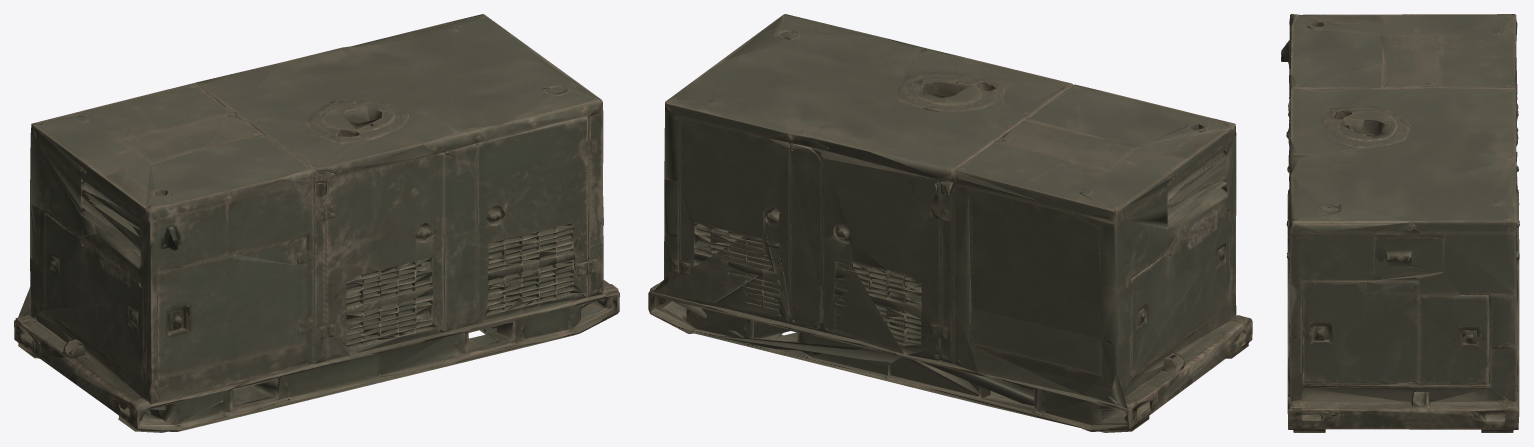
The model's file is field_gen.glb.
3 views of the same model, side by side, from view 1: azimuth 30°, elevation 25°; view 2: azimuth 150°, elevation 25°; view 3: azimuth 270°, elevation 25° (orthographic). The views are drawn at different scales.
Visible parts, largest first — view 1: field_gen; view 2: field_gen; view 3: field_gen.
Part boxes in pixels (bbox=[...]): field_gen: bbox=[14, 14, 619, 432]; field_gen: bbox=[648, 14, 1252, 432]; field_gen: bbox=[1281, 14, 1519, 432].
Bounding box in the file's own units: 1.9 × 0.8602 × 0.8621.
Materials: 1 (1 with a texture image).
